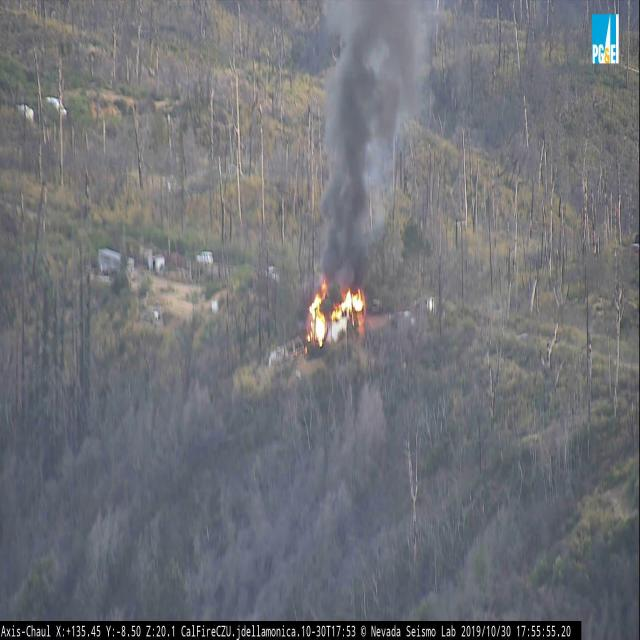smoke: (313, 0, 440, 272)
